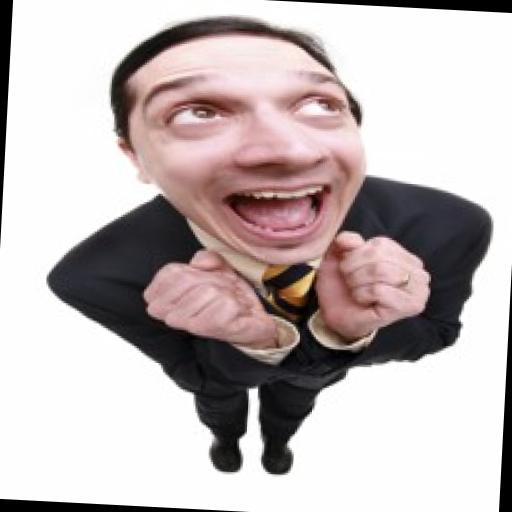human: (32, 1, 506, 488)
